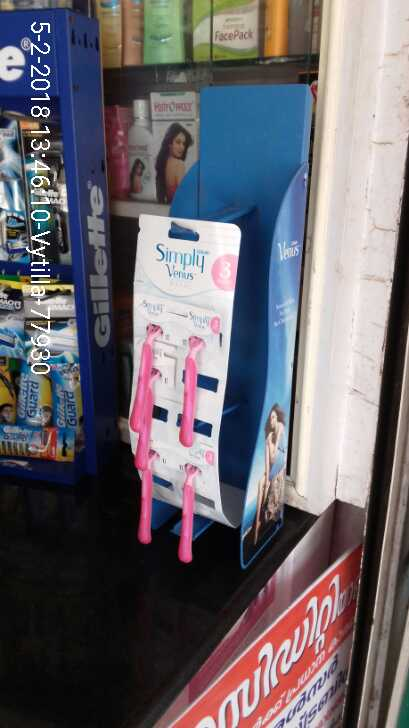gillette: (48, 363, 79, 434), (22, 358, 48, 427)
